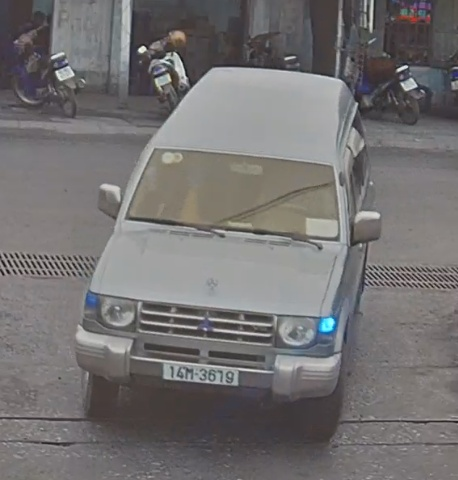vehicle plate: (160, 358, 239, 389)
